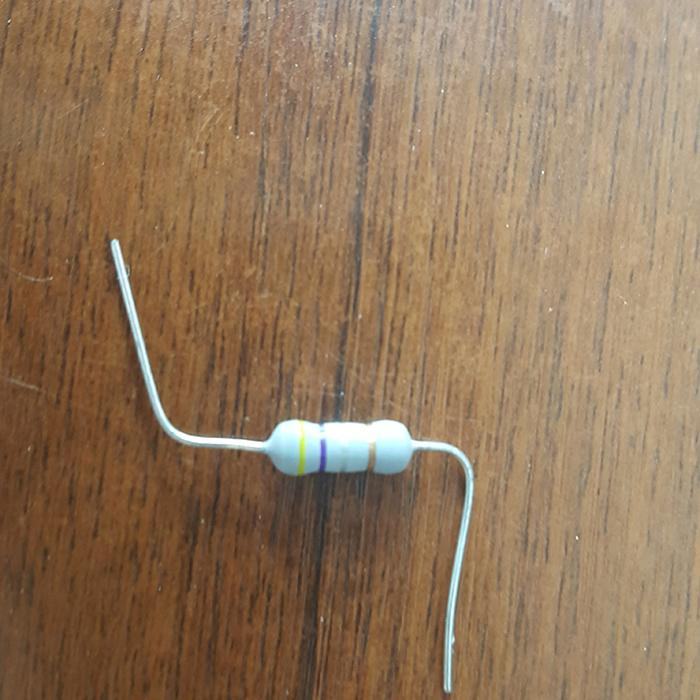resistor: (265, 416, 417, 477)
